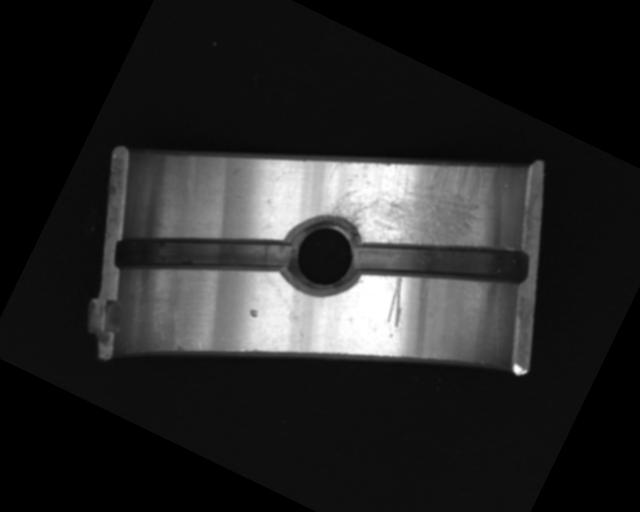bruise: (246, 305, 261, 319)
gap: (110, 177, 299, 333), (350, 187, 536, 338)
hole: (271, 203, 378, 308)
nick: (377, 274, 419, 329)
scratch: (318, 106, 503, 280)
